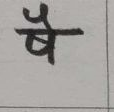ai_matra: (27, 3, 58, 29)
